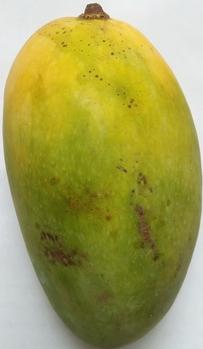PartiallyRipe: (1, 1, 203, 349)
